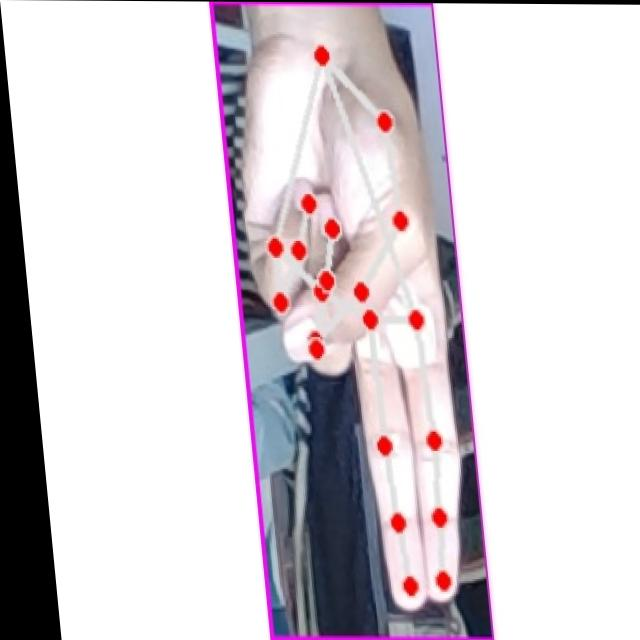U: (221, 25, 464, 615)
